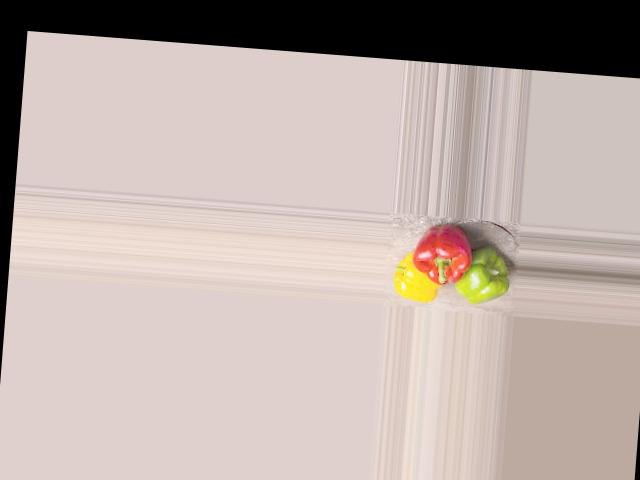bell_pepper: (392, 249, 441, 305)
